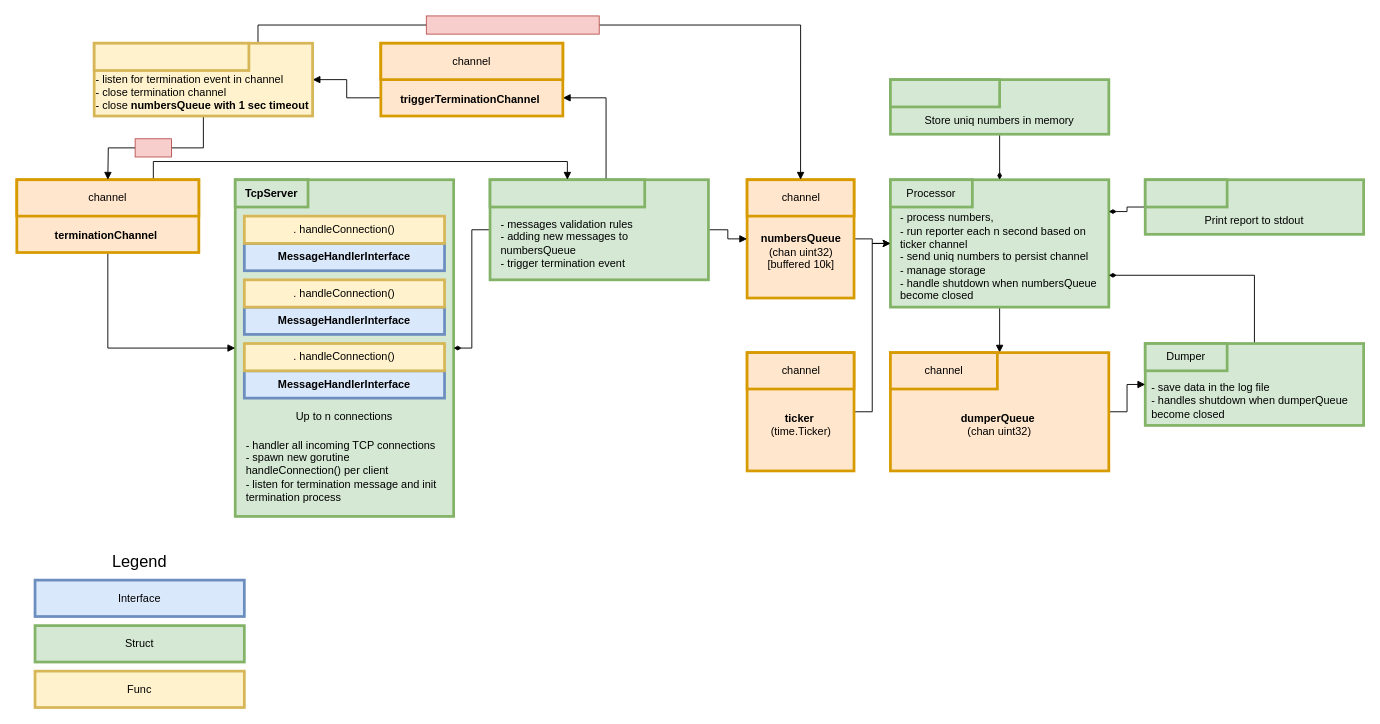
The diagram is 1380 pixels wide and 724 high, and some of its shapes have lost their labels. The centre of each missing label's shape, as x and y in pixels:
Close: the point at 153,147
Close with 1 sec timeout: the point at 512,24
IncomingMessageHandler: the point at 567,193
NumberStorage: the point at 945,93
Reporter: the point at 1185,193
Terminator: the point at 171,56
